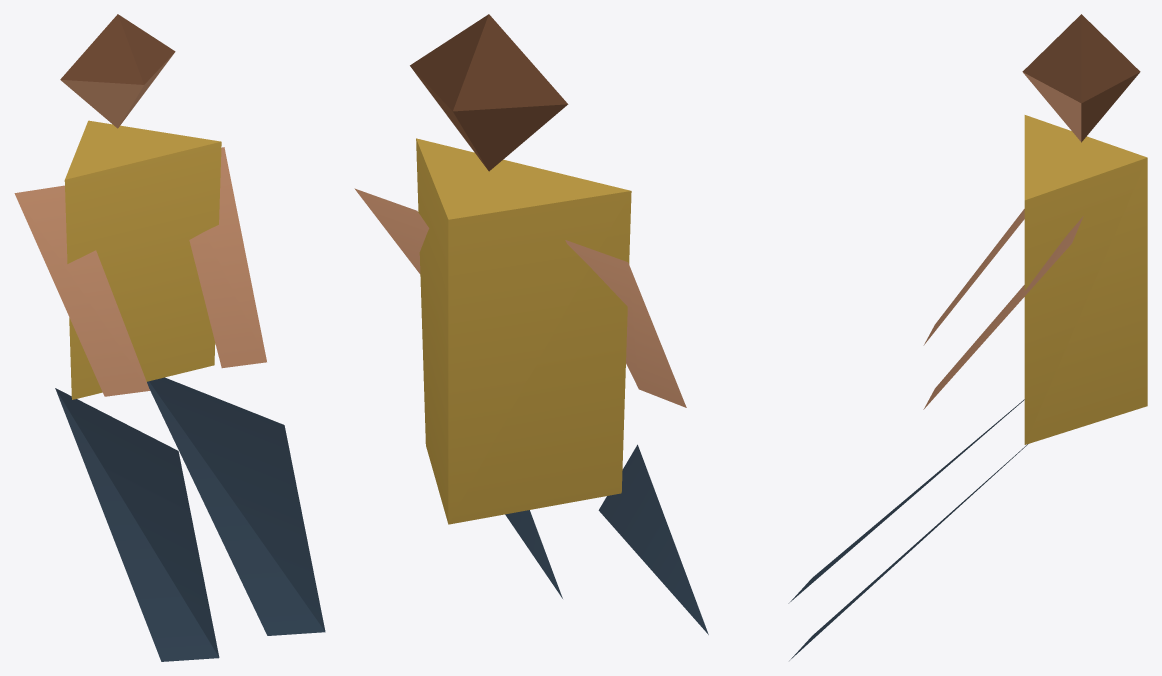
Rendered from fan-03.glb.
The picture shows the model from 3 angles, left to right: view 1: azimuth 30°, elevation 25°; view 2: azimuth 150°, elevation 25°; view 3: azimuth 270°, elevation 25°; orthographic projection. The views are drawn at different scales.
Parts seen in each view (by area): view 1: fan-03; view 2: fan-03; view 3: fan-03.
Part boxes in pixels (left/top/right/bottom): fan-03: left=14, top=14, right=325, bottom=661; fan-03: left=354, top=14, right=708, bottom=634; fan-03: left=788, top=14, right=1147, bottom=660.
Size of the model in its own units: 0.56 by 1.41 by 0.76.
